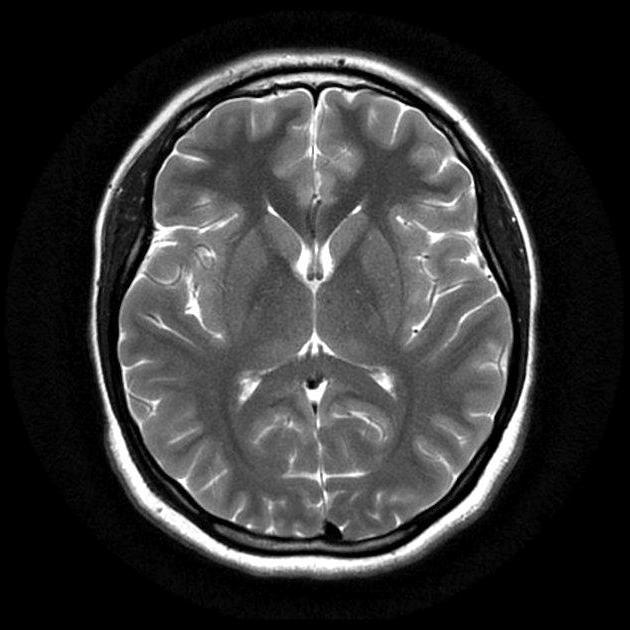Normal_Brain: (1, 1, 625, 630)
